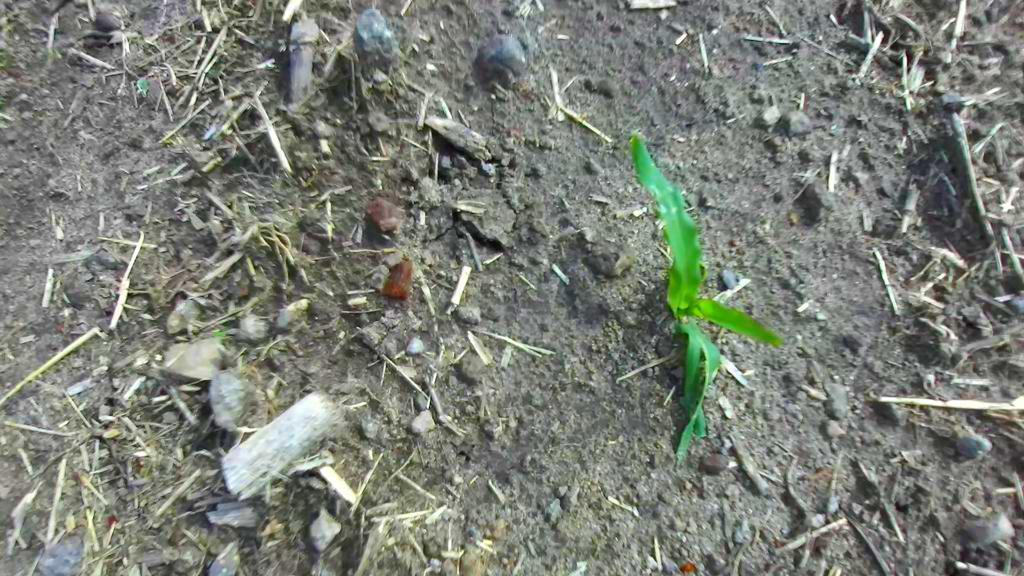BroWeed: (135, 77, 149, 98), (212, 326, 238, 336)
Maize: (581, 110, 810, 471)
